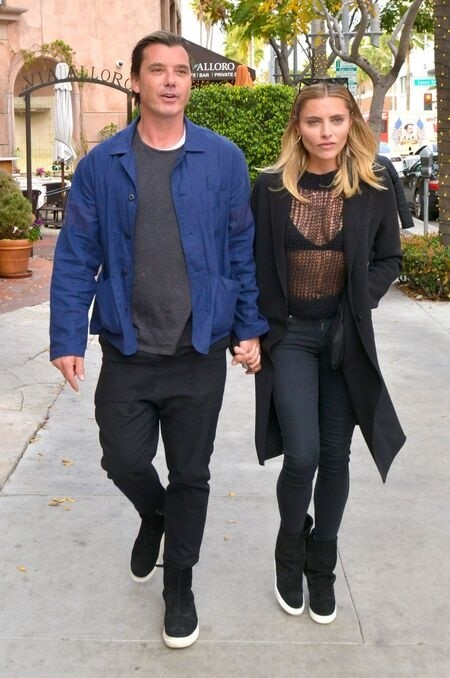face_no_mask: (128, 32, 190, 115), (295, 81, 355, 158)
